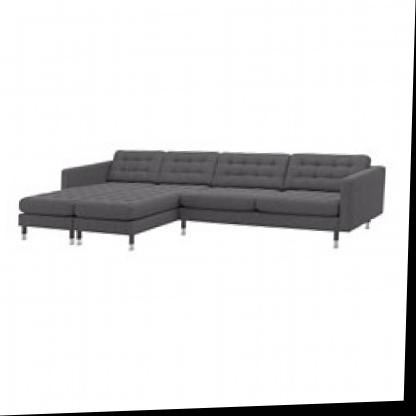Sofa: (8, 134, 390, 283)
